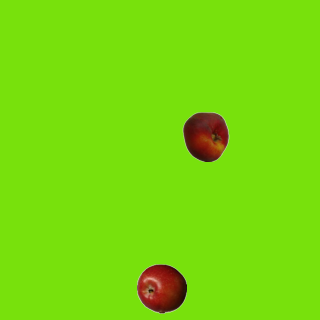Apple Braeburn: (136, 263, 186, 313)
Nectarine Flat: (180, 111, 230, 161)
